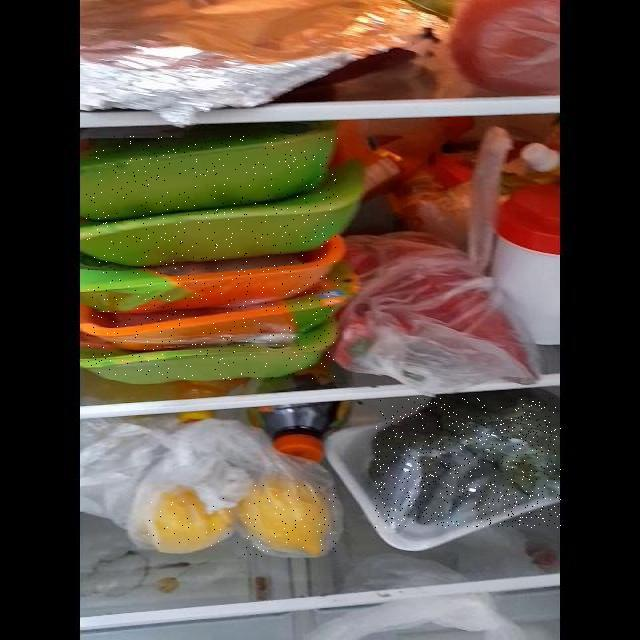broccoli: (375, 398, 561, 528)
chicken: (86, 135, 338, 380)
lemon: (236, 485, 336, 558), (146, 498, 234, 546)
tomato: (454, 0, 558, 90)
